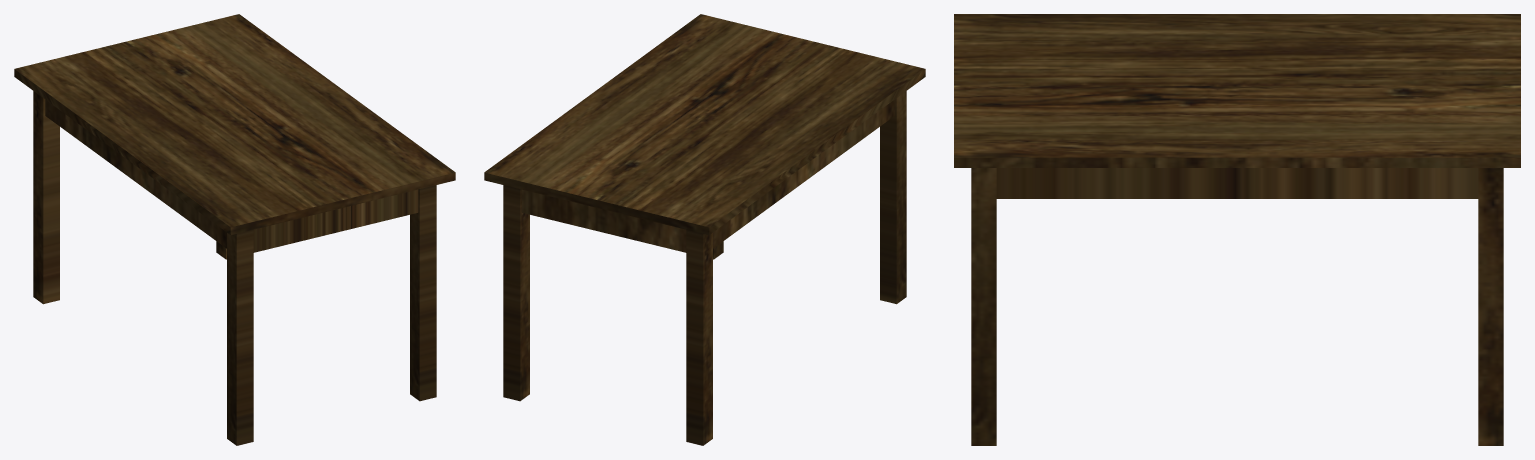
The model's file is mesaD.obj.
3 views of the same model, side by side, from view 1: azimuth 30°, elevation 25°; view 2: azimuth 150°, elevation 25°; view 3: azimuth 270°, elevation 25° (orthographic). The views are drawn at different scales.
Visible parts, largest first — view 1: deskWorn; view 2: deskWorn; view 3: deskWorn.
Part boxes in pixels (left/top/right/bottom): deskWorn: left=14, top=14, right=455, bottom=445; deskWorn: left=484, top=14, right=925, bottom=445; deskWorn: left=954, top=14, right=1520, bottom=445.
Size of the model in its own units: 1.61 by 1.54 by 2.68.
1 material, 1 textured.
